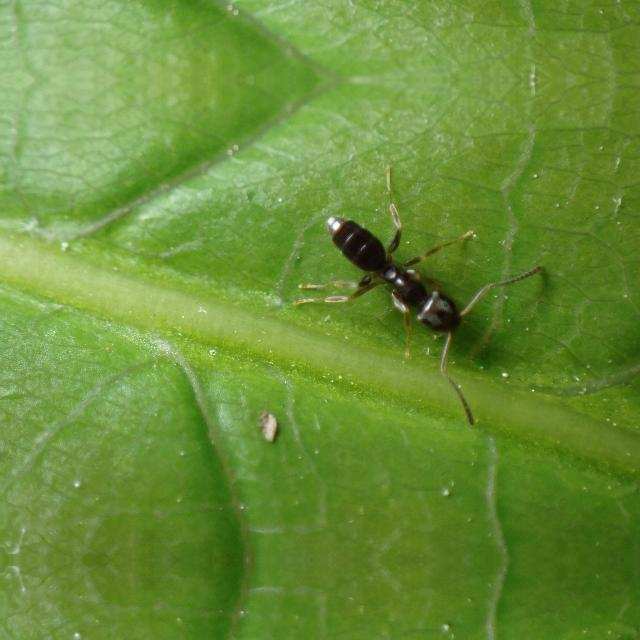Tapinoma: (306, 200, 512, 366)
